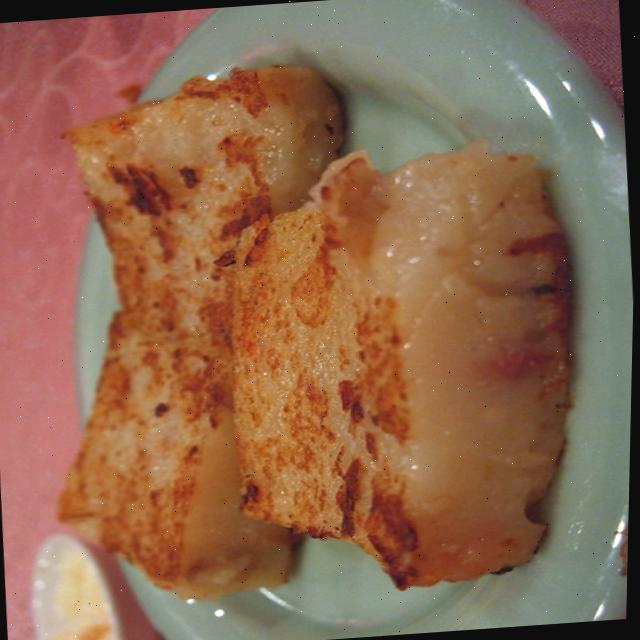蛋糕甜品: (2, 50, 607, 640)
